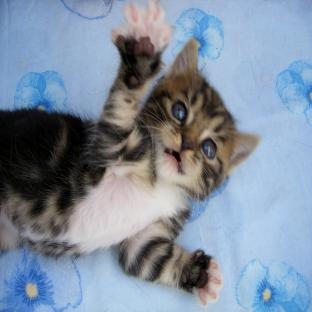Animal: (0, 0, 259, 306)
